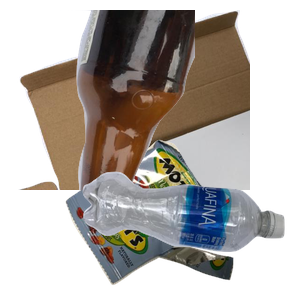cardboard: (16, 10, 256, 190)
glass: (60, 10, 300, 190)
plastic: (80, 169, 300, 300)
trash: (63, 137, 289, 300)
